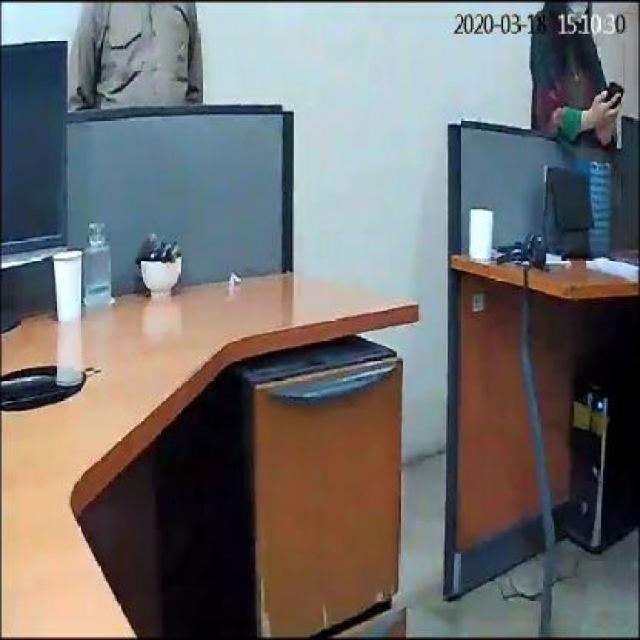spill: (3, 356, 88, 414)
